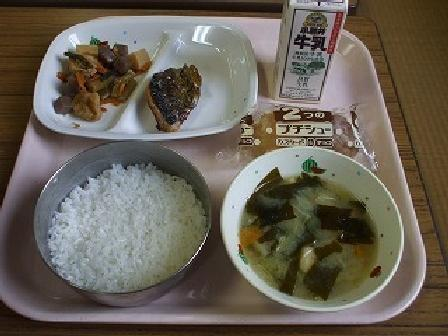Fish: (146, 59, 217, 134)
Milk: (267, 5, 358, 108)
Rice: (38, 140, 212, 298)
Soups: (233, 156, 389, 302)
pastry: (232, 96, 382, 170)
vegetable based cooked food: (52, 32, 148, 130)
